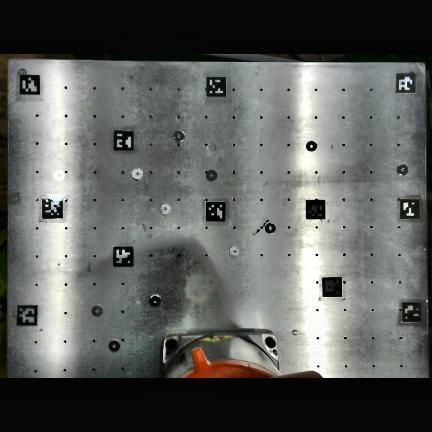marker: (17, 304, 38, 325), (400, 198, 420, 219), (42, 198, 62, 218), (113, 246, 133, 266), (114, 130, 134, 150), (206, 75, 226, 95), (403, 300, 422, 321), (206, 201, 225, 222), (20, 75, 40, 94), (396, 73, 415, 93), (306, 200, 325, 219), (323, 278, 342, 296)
washer: (109, 340, 120, 351), (92, 306, 103, 316), (150, 295, 160, 306), (132, 169, 143, 179), (160, 204, 170, 215), (54, 171, 64, 181), (306, 142, 317, 151), (266, 224, 276, 233), (207, 171, 217, 180), (175, 131, 184, 141), (398, 165, 407, 175), (230, 247, 238, 255)
